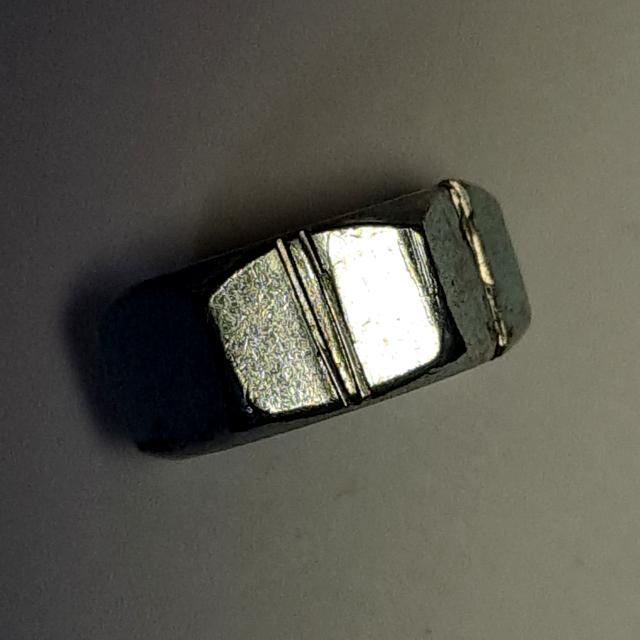Side_Scratches: (85, 160, 542, 484)
